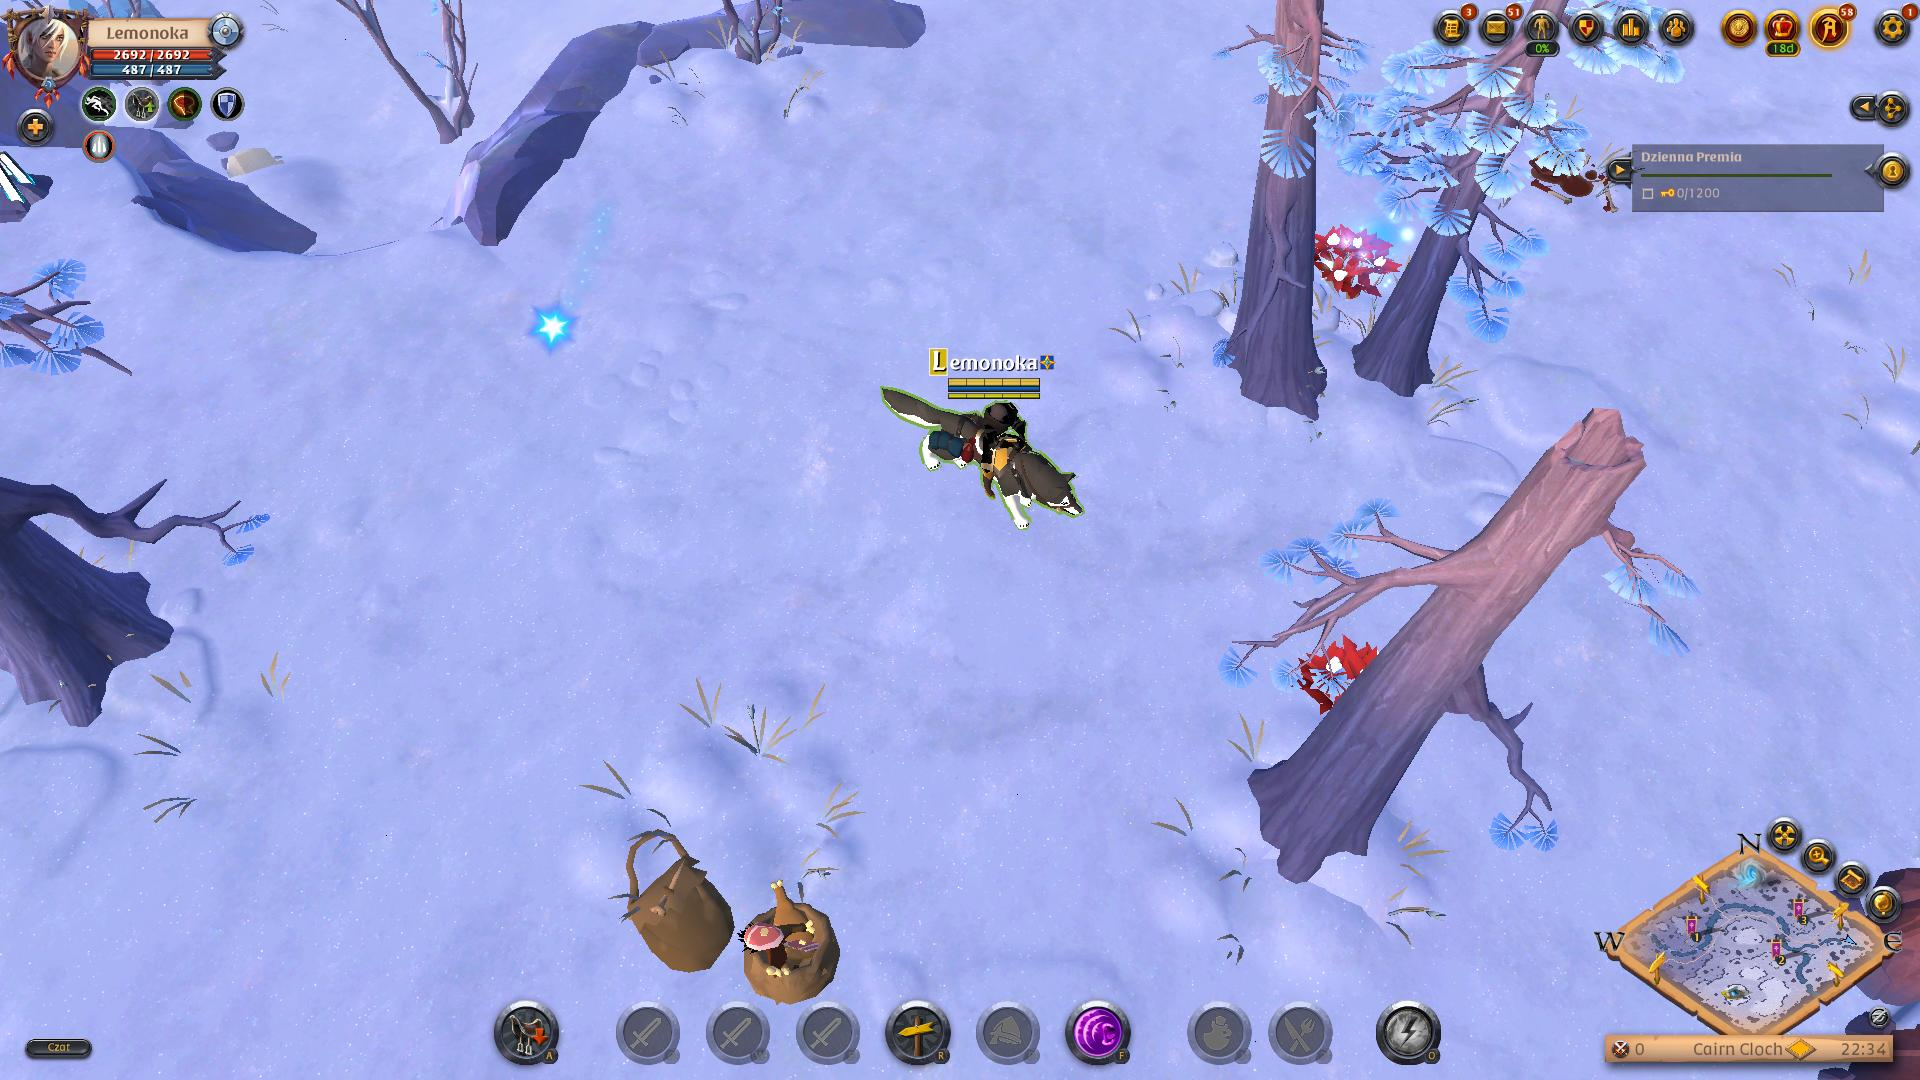fiber tier 5: (1303, 212, 1396, 309)
